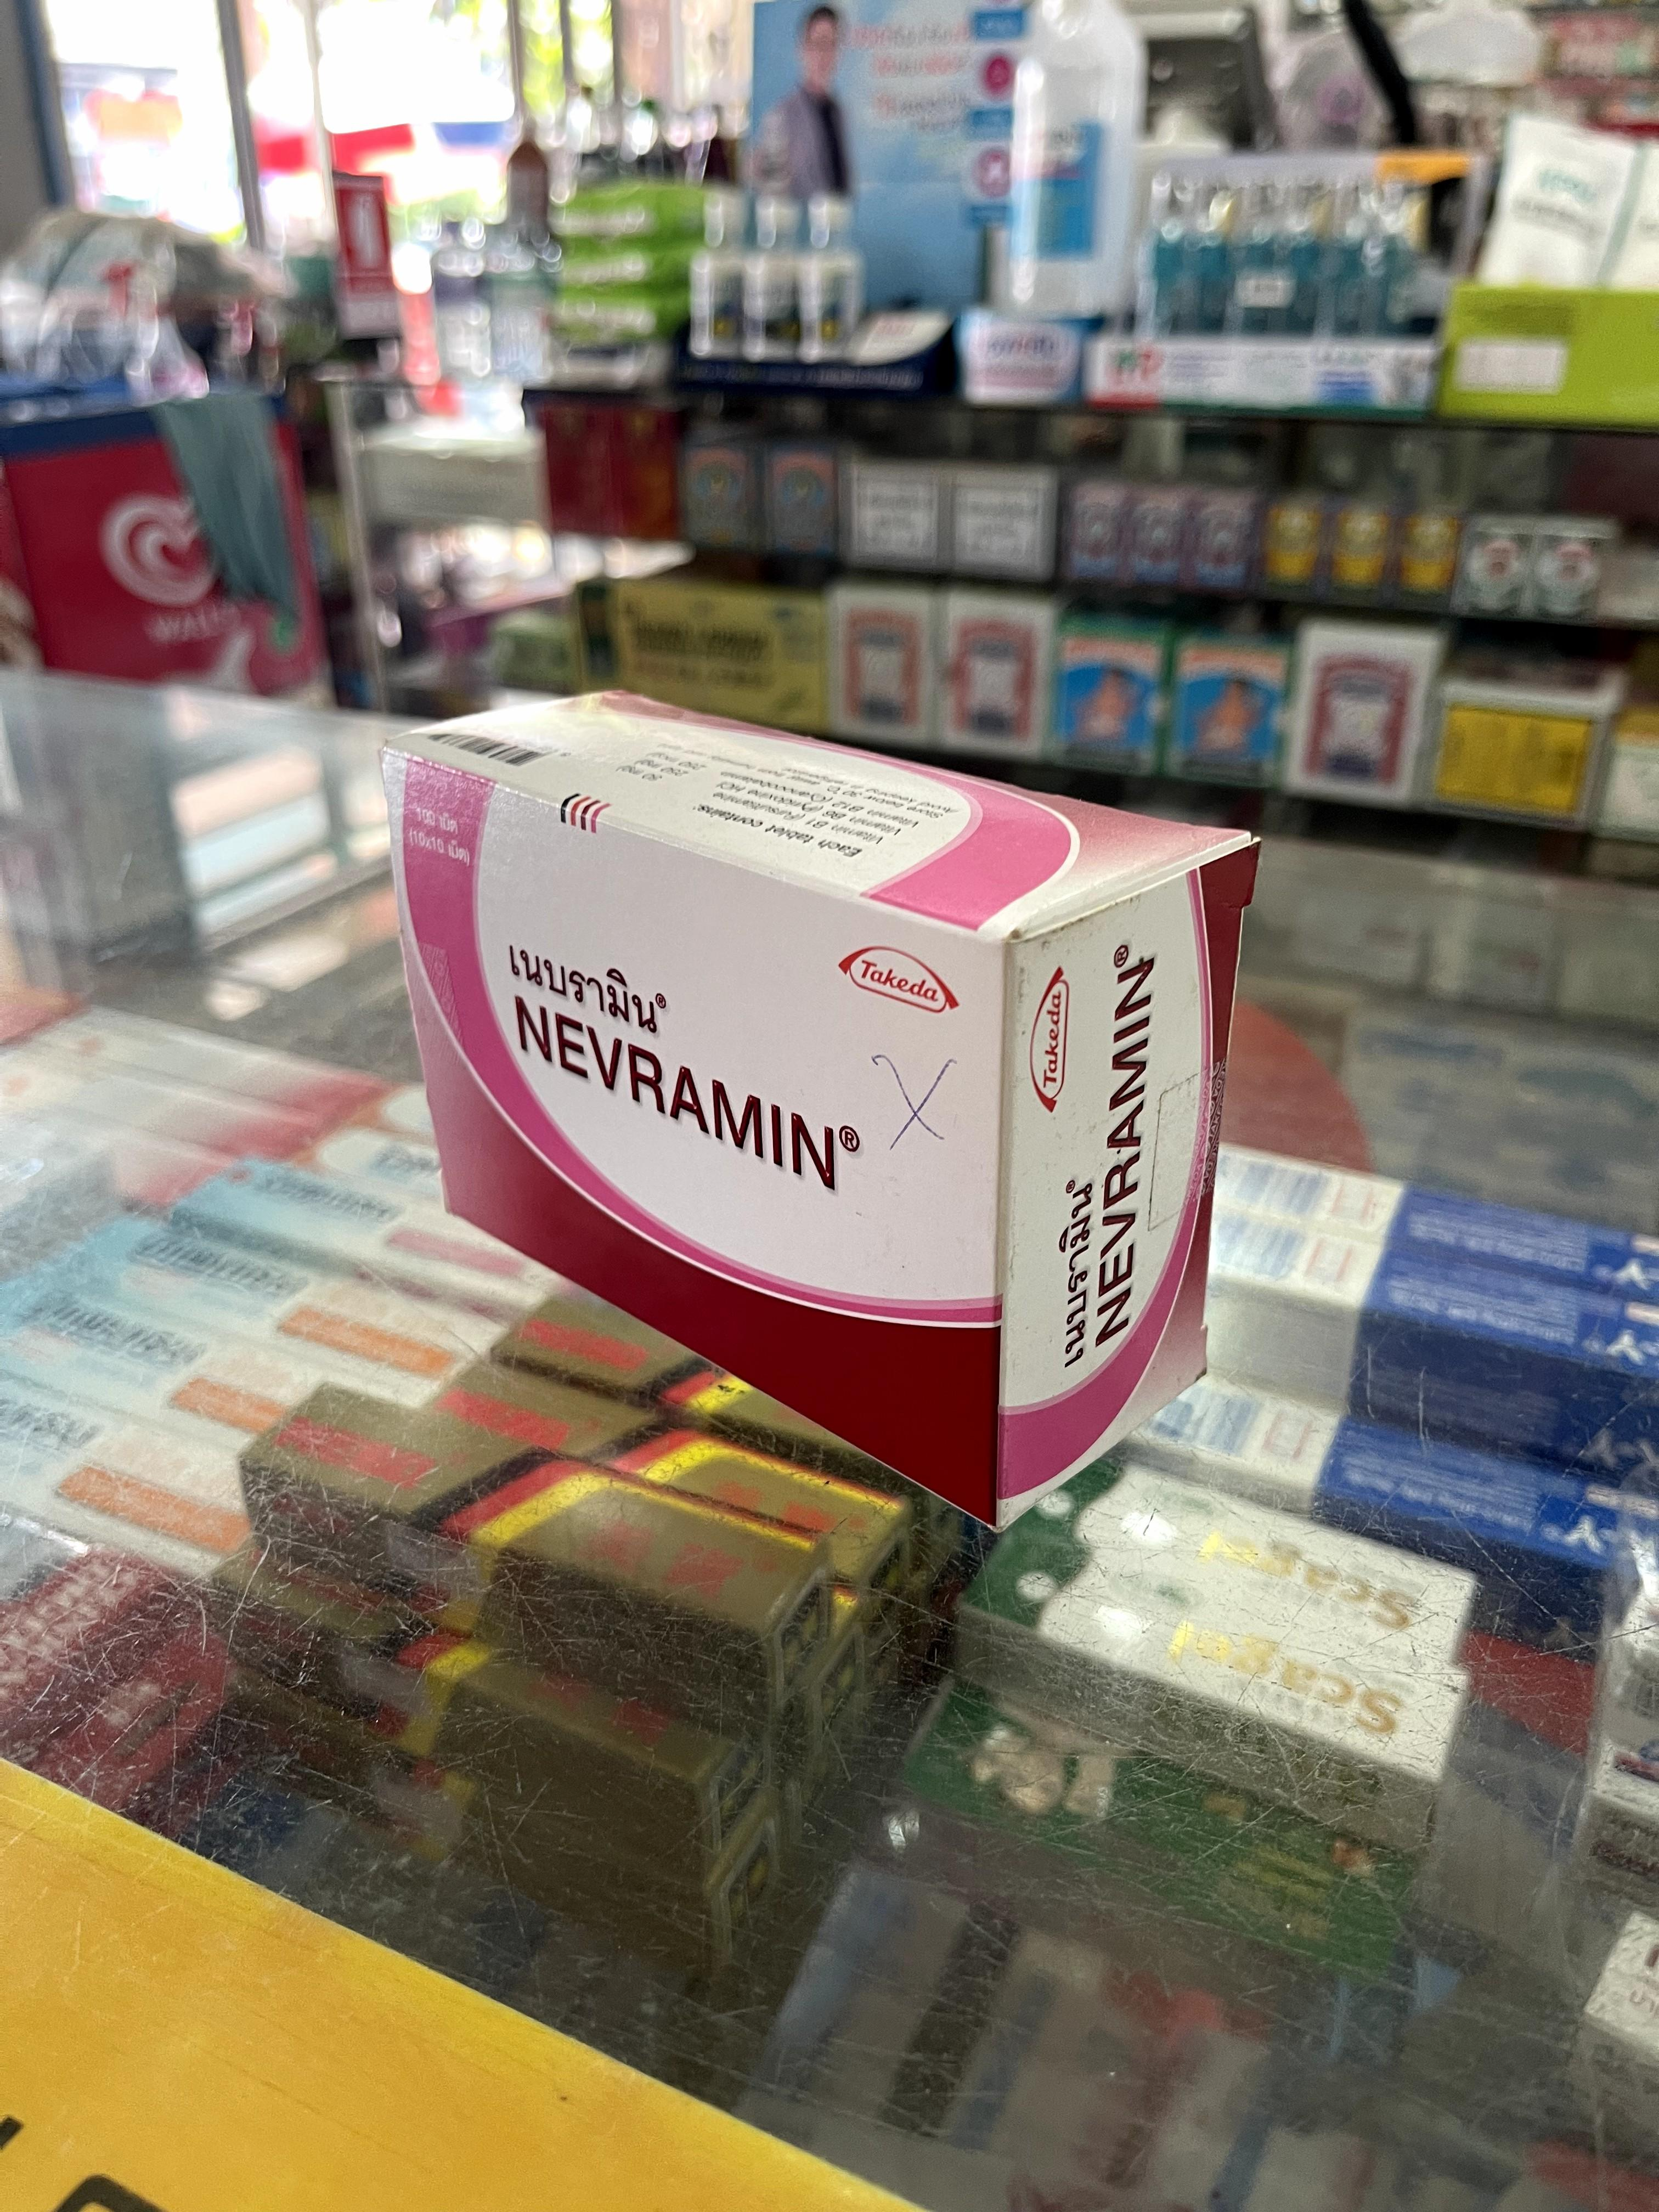Nevramin: (392, 693, 1251, 1533)
